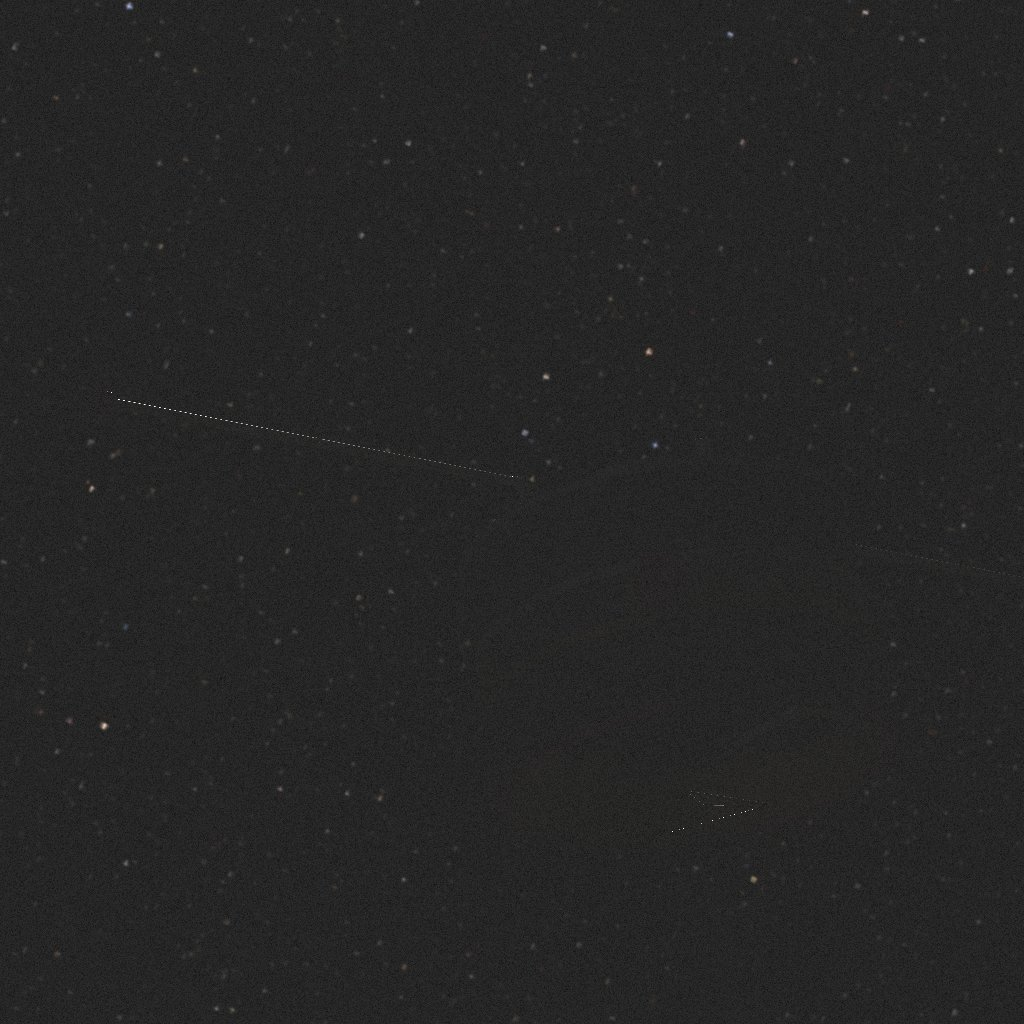double_star: (78, 360, 1009, 950)
